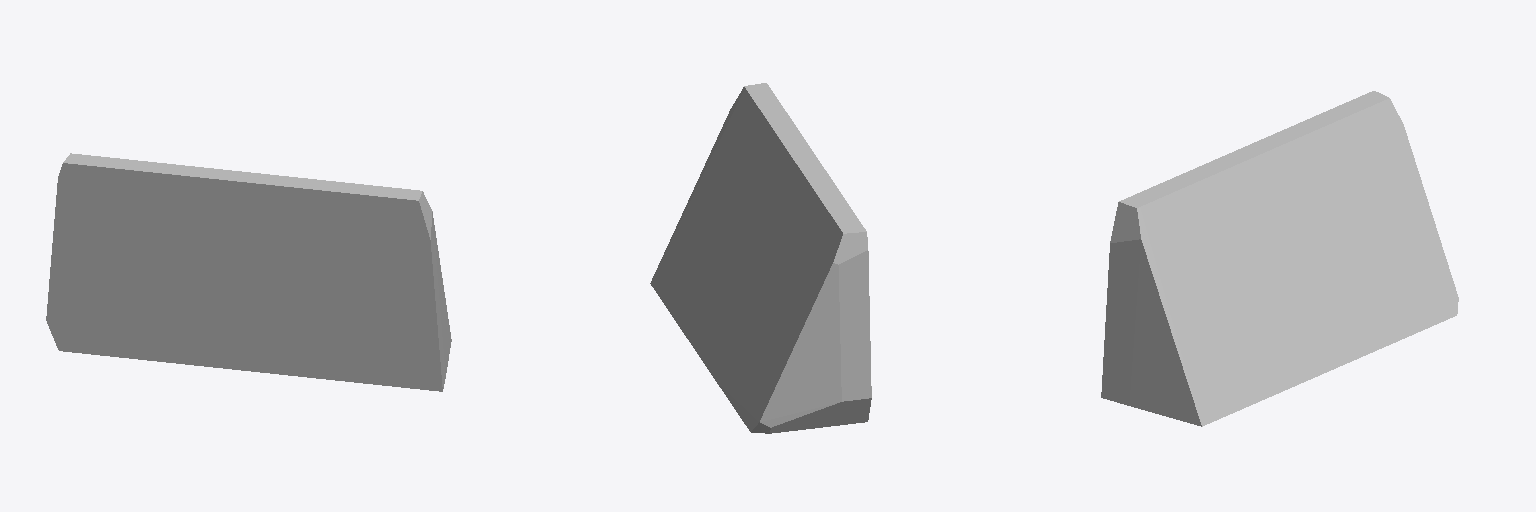
The model's file is li-fang-ti-.001_cell.034.obj.
The picture shows the model from 3 angles: view 1: azimuth 30°, elevation 25°; view 2: azimuth 150°, elevation 25°; view 3: azimuth 270°, elevation 25°; orthographic projection.
Visible parts, largest first — view 1: 立方体.001_cell.034; view 2: 立方体.001_cell.034; view 3: 立方体.001_cell.034.
Boxes of the visible parts, <box> form: 立方体.001_cell.034: <box>46,153,451,391</box>; 立方体.001_cell.034: <box>650,83,871,433</box>; 立方体.001_cell.034: <box>1101,91,1458,426</box>.
Size of the model in its own units: 0.7055 by 0.4054 by 0.6967.